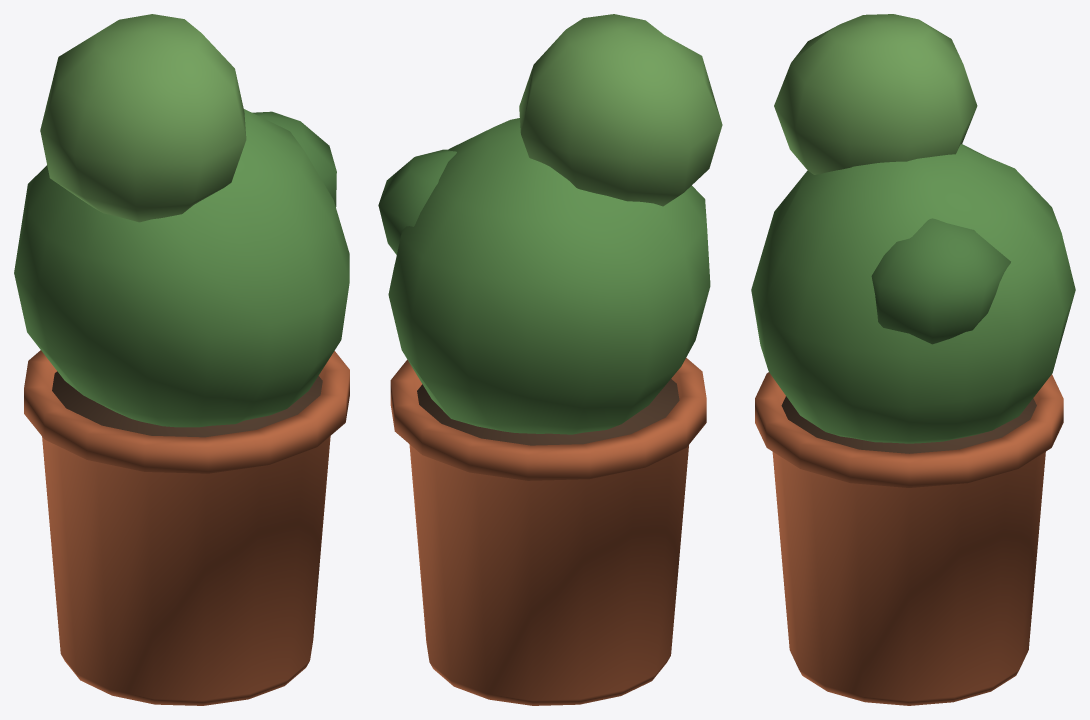
The model's file is pot.glb.
The picture shows the model from 3 angles, left to right: view 1: azimuth 30°, elevation 25°; view 2: azimuth 150°, elevation 25°; view 3: azimuth 270°, elevation 25°; orthographic projection. The views are drawn at different scales.
Parts seen in each view (by area): view 1: pot; view 2: pot; view 3: pot.
Part boxes in pixels (x1,y1,x2,y2): pot: (14,14,349,705); pot: (378,14,722,705); pot: (751,14,1075,705).
Size of the model in its own units: 0.43 by 0.8697 by 0.4208.
